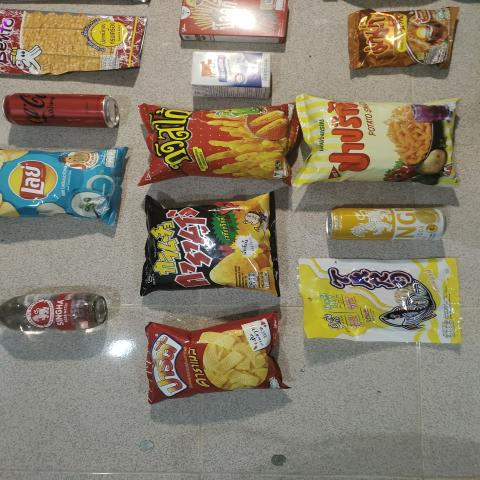bento_red: (0, 12, 137, 76)
coke_red: (3, 89, 121, 127)
karamujo: (143, 204, 273, 282)
lay_blue: (0, 151, 113, 222)
mama: (351, 10, 444, 66)
paprika: (301, 100, 454, 188)
party_red: (147, 319, 272, 387)
pokki: (176, 0, 287, 42)
singha_soda: (0, 282, 119, 338)
singha_yellow: (320, 202, 445, 241)
taro_yellow: (301, 257, 456, 340)
thai_denmark: (192, 52, 270, 97)
twisco: (151, 105, 288, 182)
